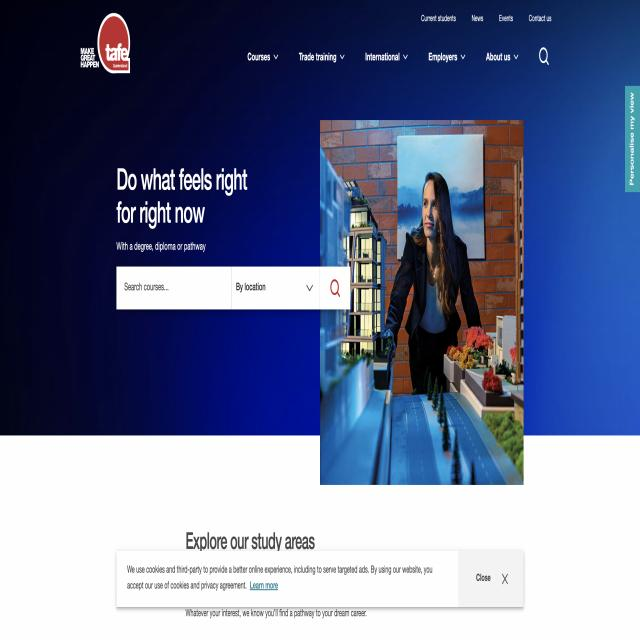Logo: (75, 8, 141, 80)
Navigation: (237, 35, 570, 93)
